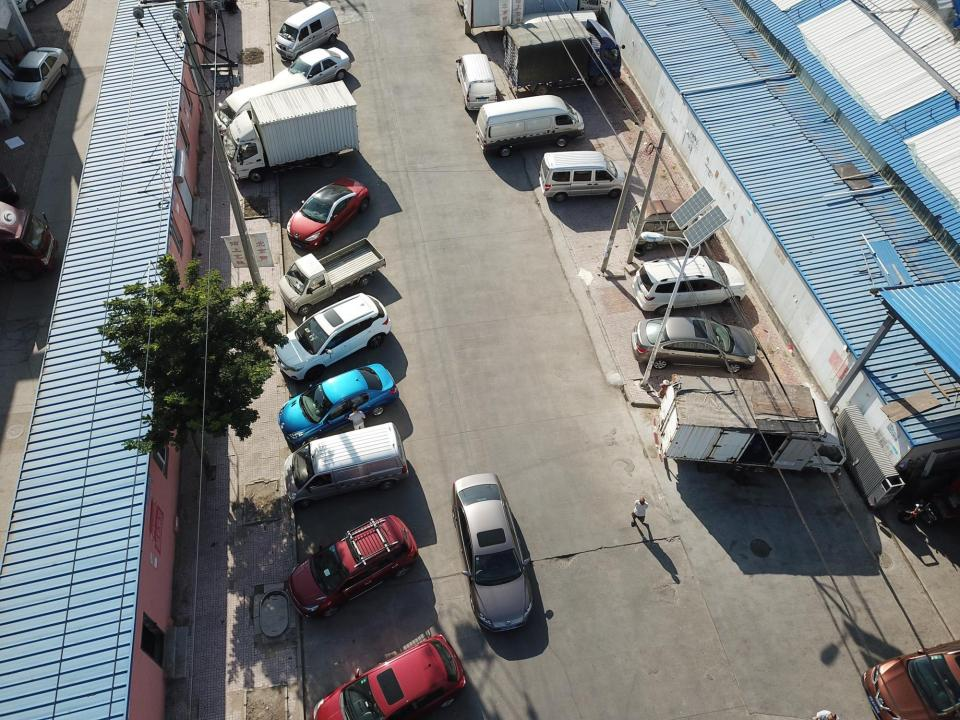car: (310, 634, 465, 720), (454, 470, 534, 629), (287, 516, 414, 613), (280, 366, 402, 446), (276, 294, 390, 379), (632, 258, 748, 318), (631, 319, 755, 373), (287, 175, 364, 247), (7, 46, 71, 108), (276, 45, 352, 97)
truck: (655, 374, 847, 478), (226, 80, 359, 180), (502, 16, 622, 99), (282, 240, 387, 316), (0, 201, 59, 271)
van: (281, 424, 407, 502), (476, 94, 585, 161), (218, 74, 313, 130), (538, 150, 630, 199), (273, 2, 340, 63), (456, 52, 497, 110)
